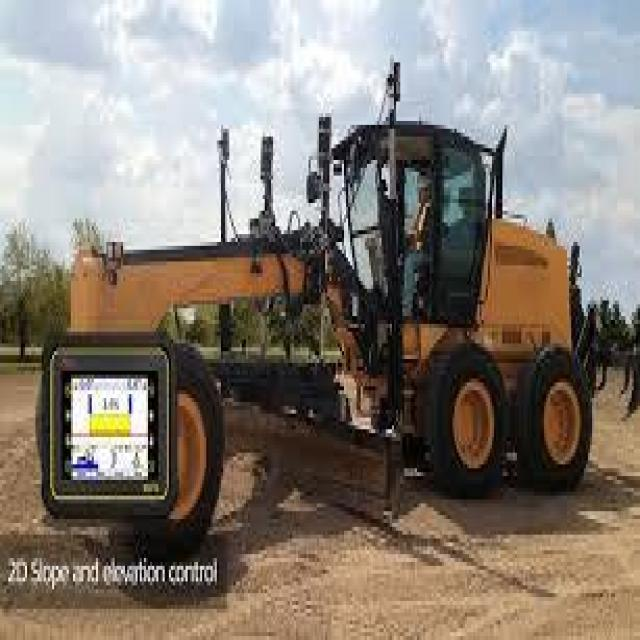Grader: (48, 86, 638, 597)
